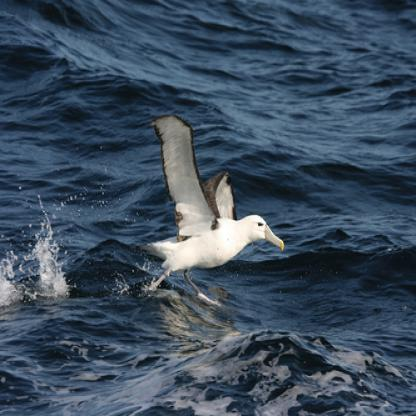bird: (148, 115, 286, 306)
